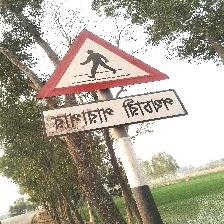Pedestrian-crossing: (36, 28, 186, 138)
